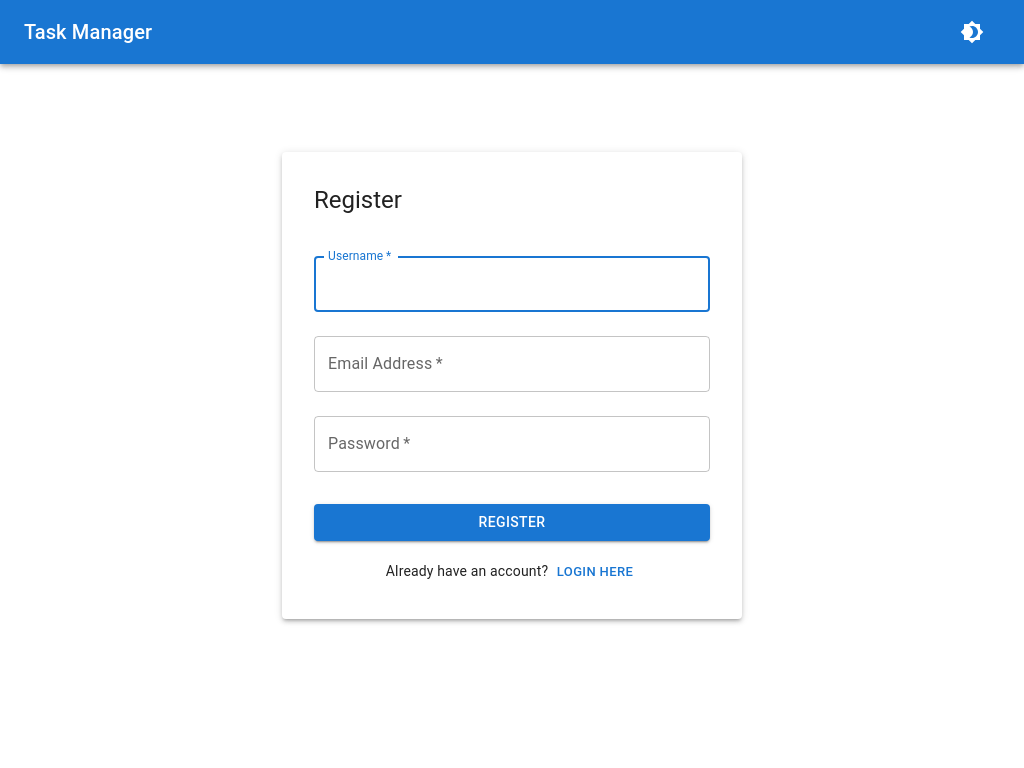
Registration Page › should handle registration error
In the field with id "username": (512, 284) [314,256,710,312], type "existinguser"
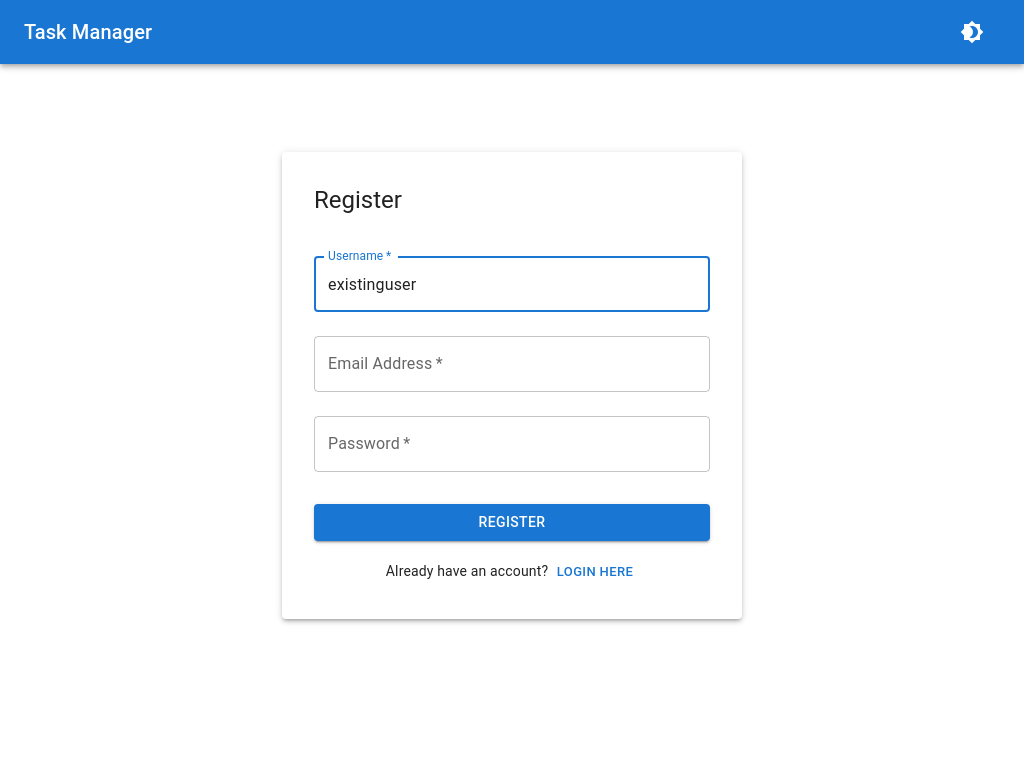
In the field with id "email": (512, 364) [314,336,710,392], type "existing@example.com"
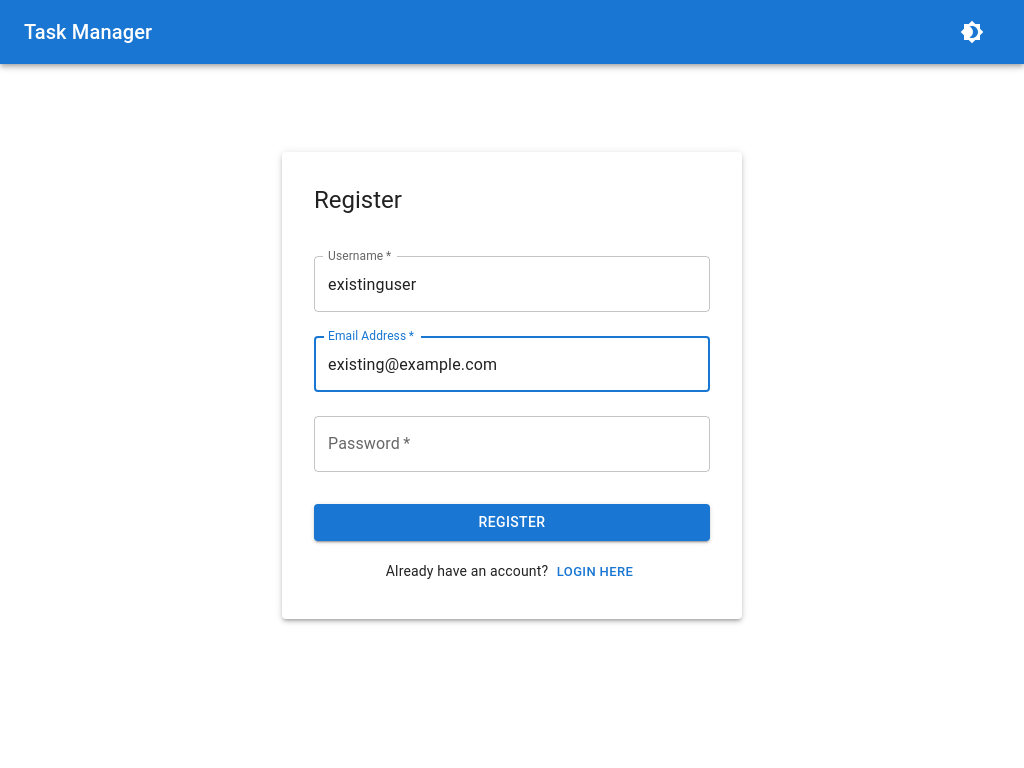
In the password field labelled "Password *": (512, 444) [314,416,710,472], type "password123"
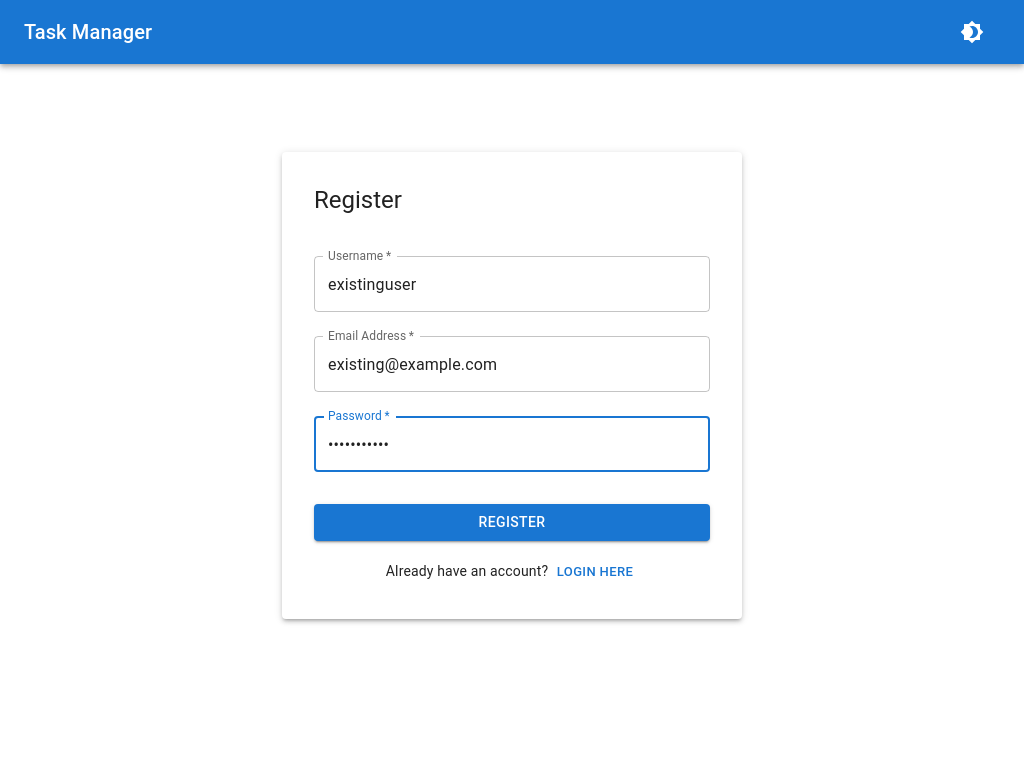
Click the button "Register": (512, 523) [314,504,710,541]
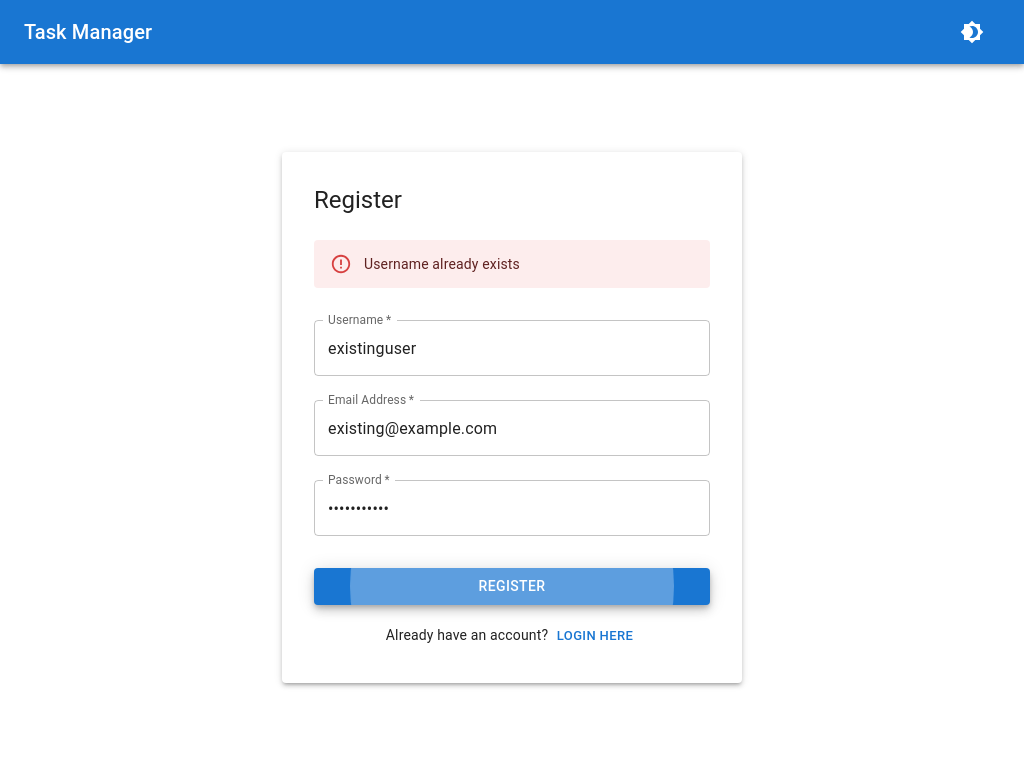
Expected: the text "Username already exists" is shown, [364,256,520,272]
